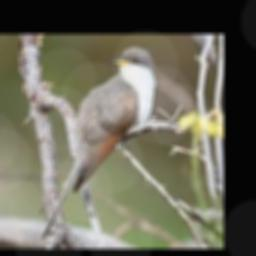Cuckoo: (40, 46, 157, 241)
